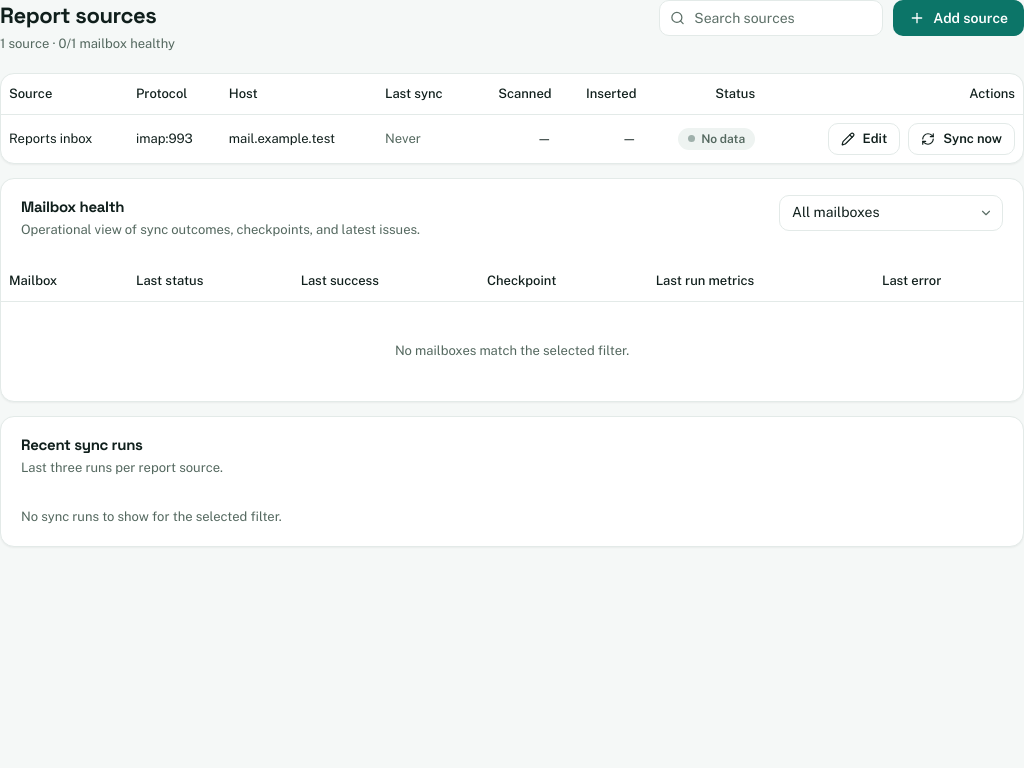
Scenario: manual sync status › stops polling after ten minutes without a terminal status
Click the button "Sync now". click: (962, 139)
box: x1=908 y1=123 x2=1015 y2=155
Wait 660000 ms
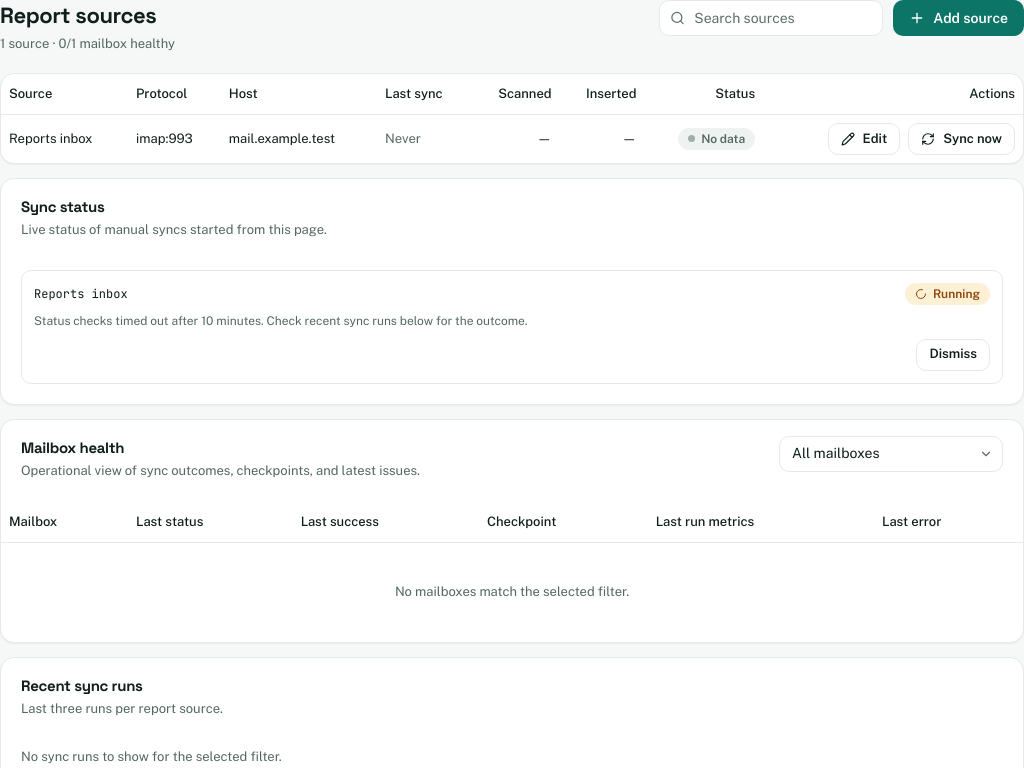
Result: the text "Running" is shown at x1=905 y1=283 x2=990 y2=305
Result: the text "timed out after 10 minutes" is shown at x1=34 y1=314 x2=528 y2=328
Click the button "Dismiss". click: (953, 355)
box: x1=916 y1=339 x2=990 y2=371
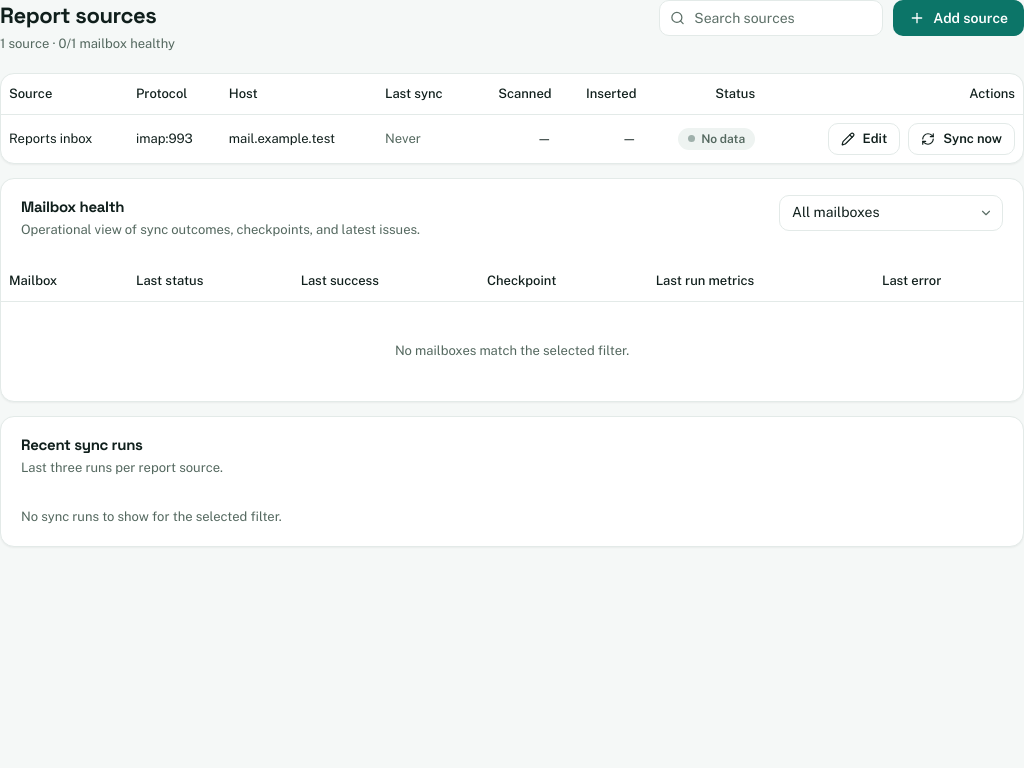
Result: the heading "Sync status" is gone
